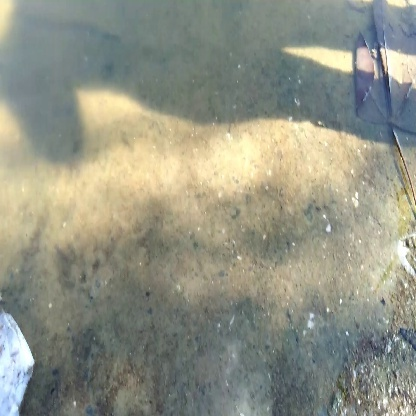branch: (353, 4, 416, 205)
